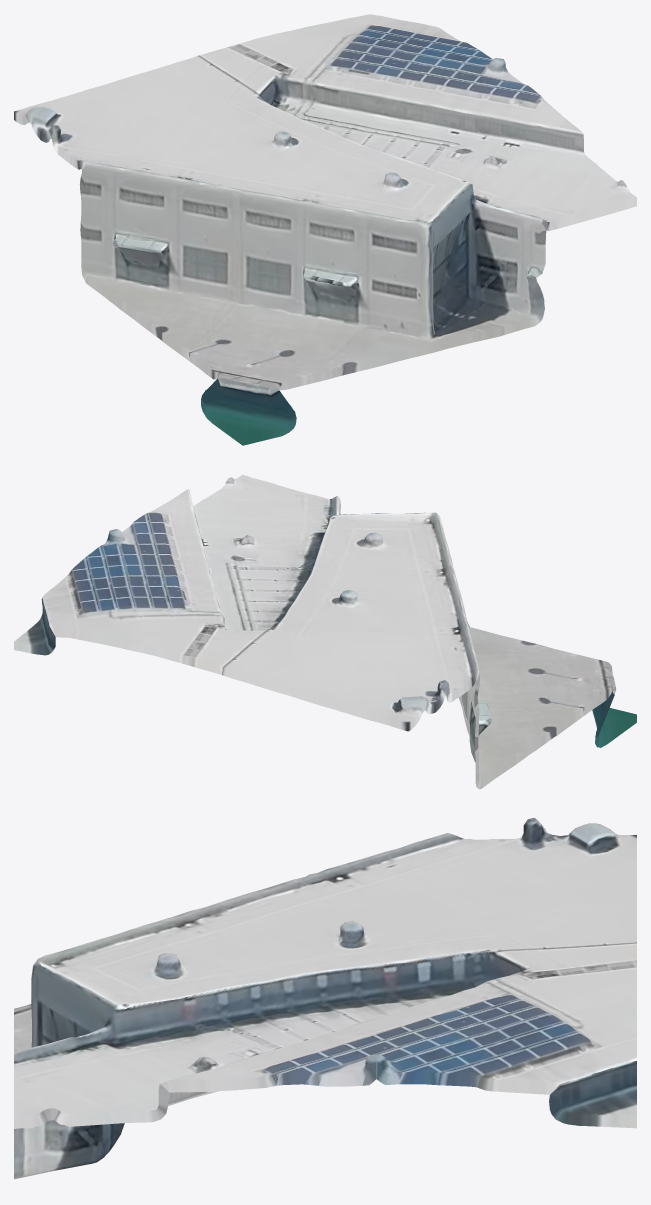
File: z20-167787-405215-h0-yup-uvflip-v3-world.glb
3 renders of one model, top to bottom at view 1: azimuth 30°, elevation 25°; view 2: azimuth 150°, elevation 25°; view 3: azimuth 270°, elevation 25°, orthographic. The views are drawn at different scales.
Size of the model in its own units: 30.16 by 14.24 by 30.32.
1 material, 1 textured.
